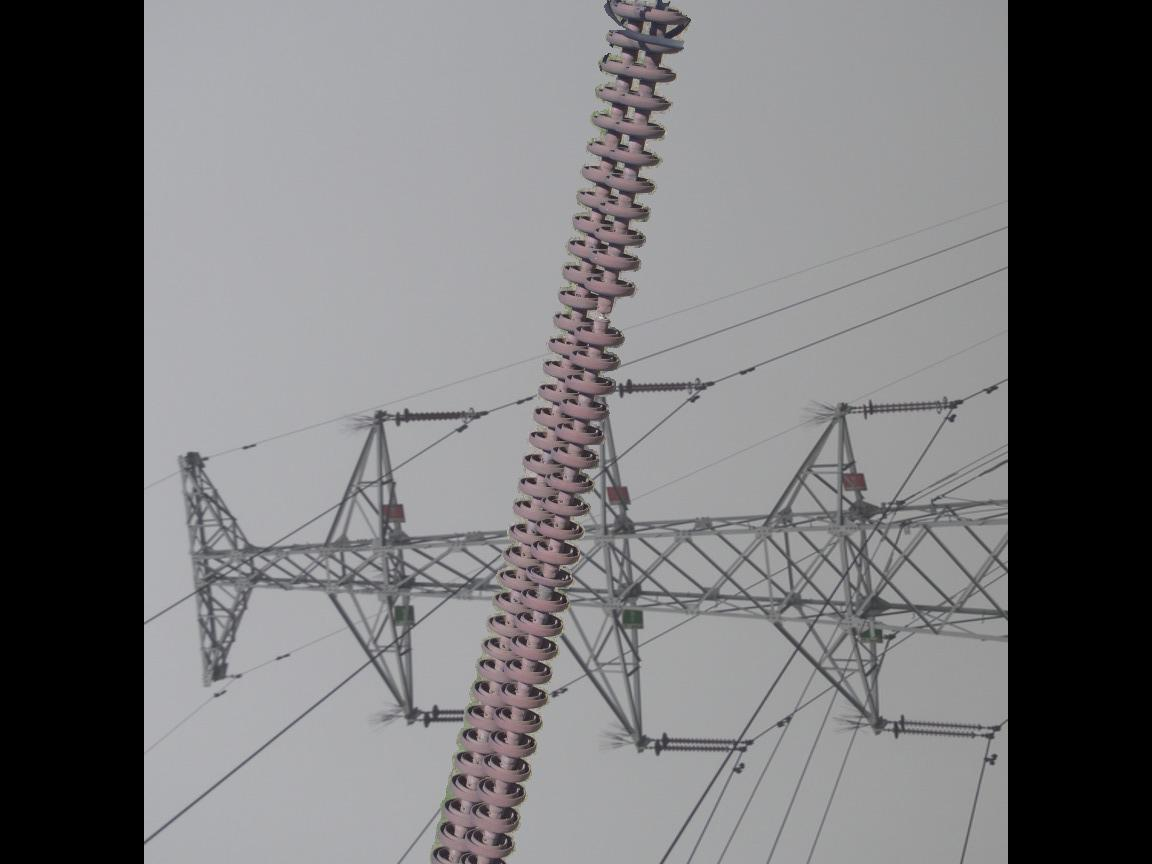insulator: (421, 1, 697, 864), (383, 399, 471, 435), (856, 390, 946, 424), (616, 372, 696, 407), (894, 715, 986, 743), (656, 730, 745, 758)
insulator_stringdrop: (568, 272, 639, 352)
